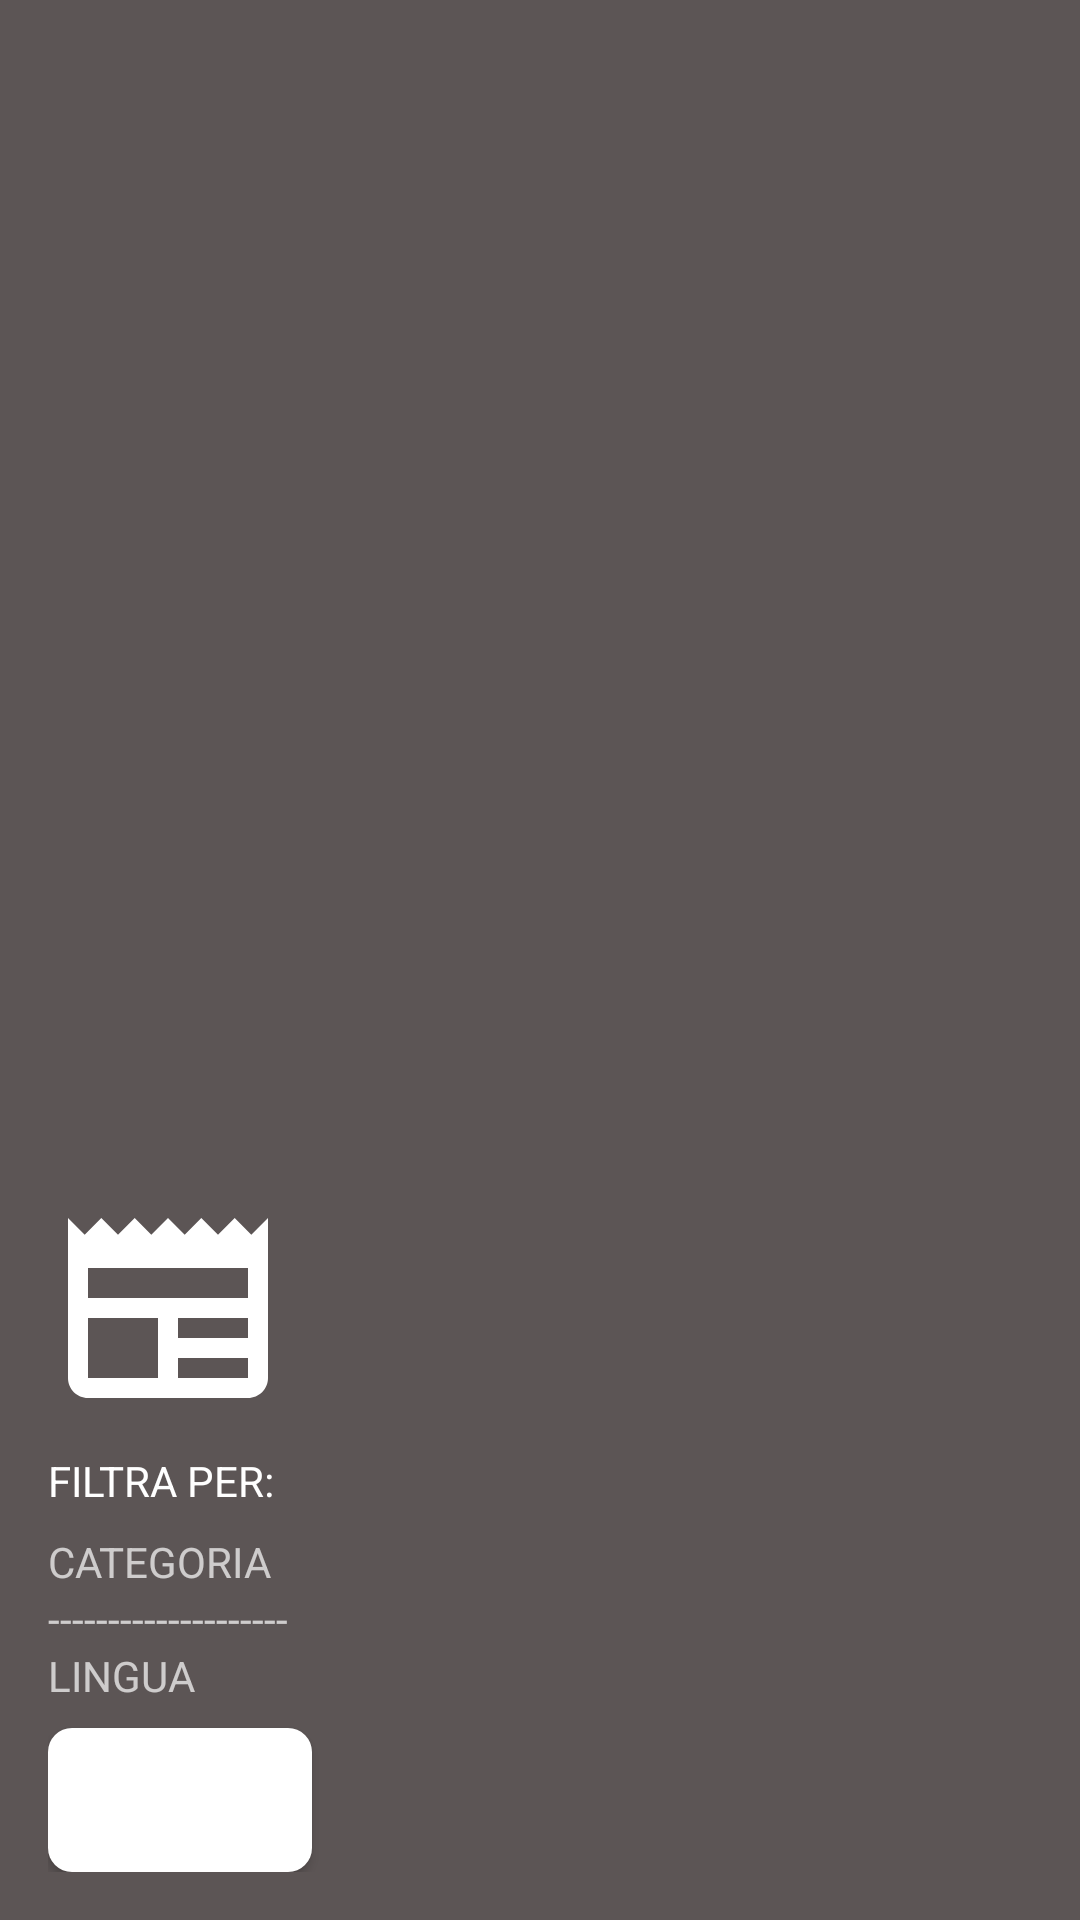

Named icons in this screenshot (1080w x 1920h) and their centers, [x,y]:
news: [168,1308]
